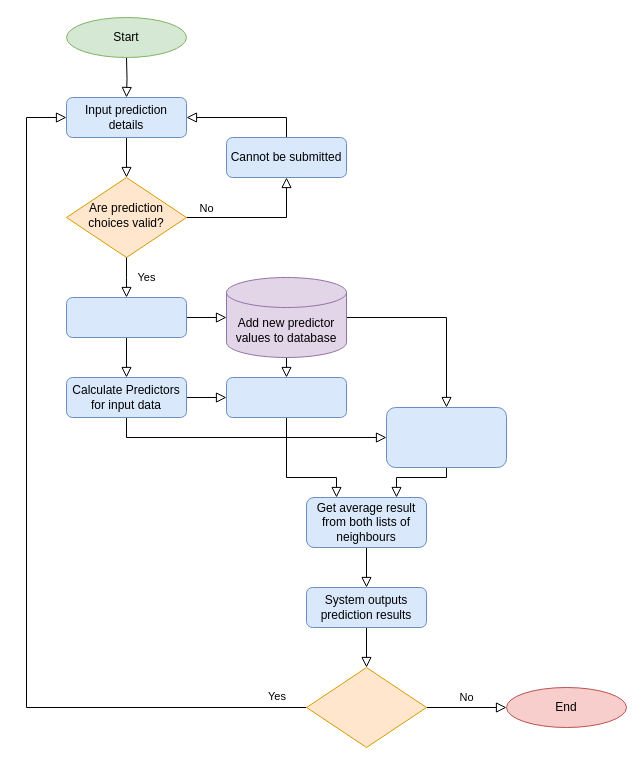
Some shapes in this 644 by 765 pixel diagram are drawn without their labels. Here are the shapes that lost their labels. From the top down, the centre of each, then its label:
At point (126, 317): "Calculate predictors for chosen season".
At point (286, 397): "Get list of nearest neighbours".
At point (446, 437): "Get list of nearest neighbours with swapped input positions".
At point (366, 707): "Make another prediction?".
